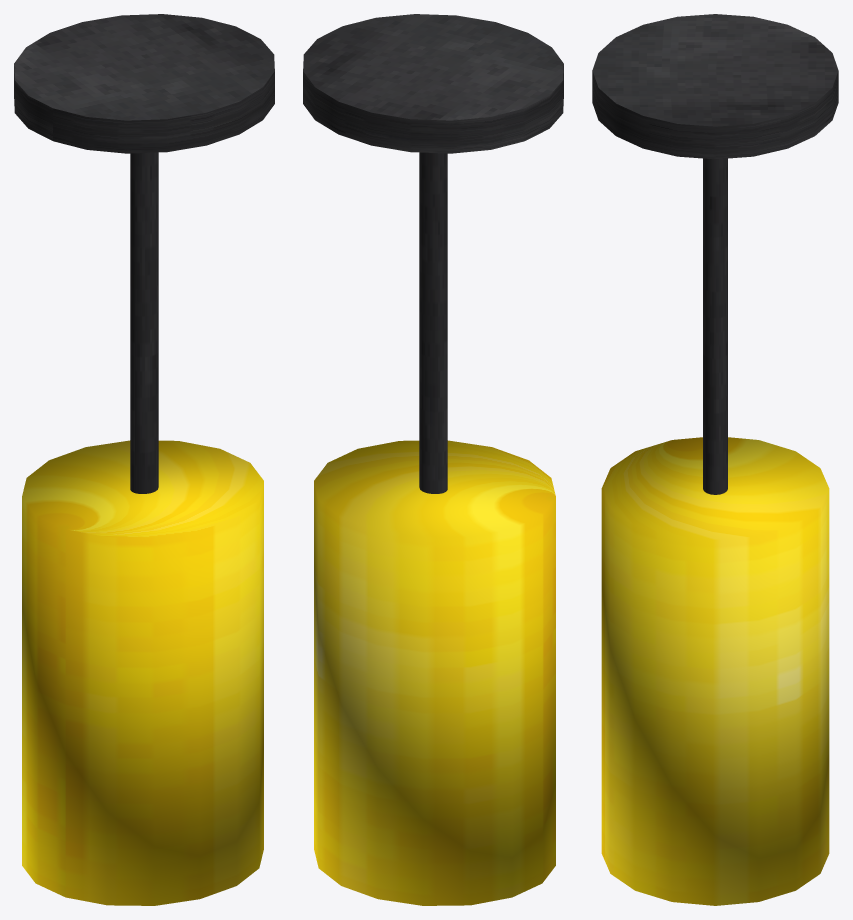
File: lamparaichuri.fbx
3 renders of one model, left to right at view 1: azimuth 30°, elevation 25°; view 2: azimuth 150°, elevation 25°; view 3: azimuth 270°, elevation 25°, orthographic.
Visible parts, largest first — view 1: polySurface10; view 2: polySurface10; view 3: polySurface10.
Boxes of the visible parts, left/top/right/bottom form: polySurface10: left=14, top=14, right=274, bottom=905; polySurface10: left=303, top=14, right=563, bottom=905; polySurface10: left=592, top=14, right=838, bottom=905.
Bounding box in the file's own units: 329 × 1067 × 303.
Materials: 2 (2 with a texture image).
